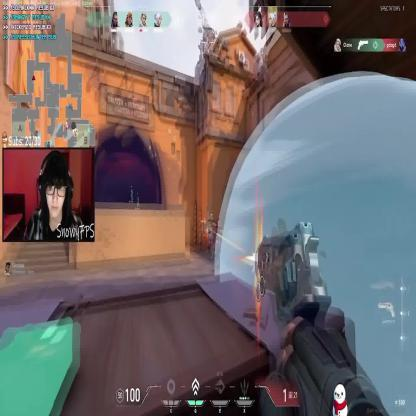enemy: (206, 210, 214, 258)
enemy_head: (208, 212, 214, 222)
